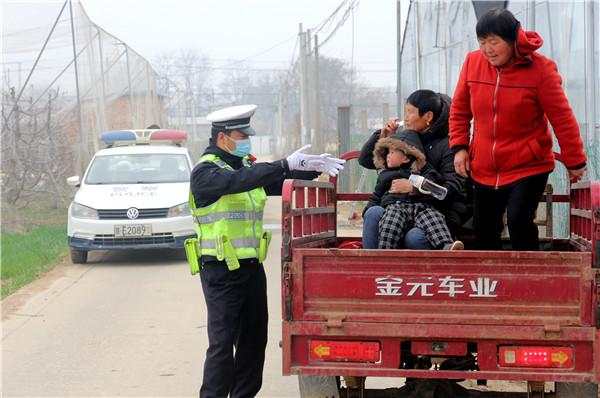overloading: (278, 3, 600, 387)
passenger: (439, 8, 585, 247), (355, 128, 441, 245), (359, 72, 451, 134)
